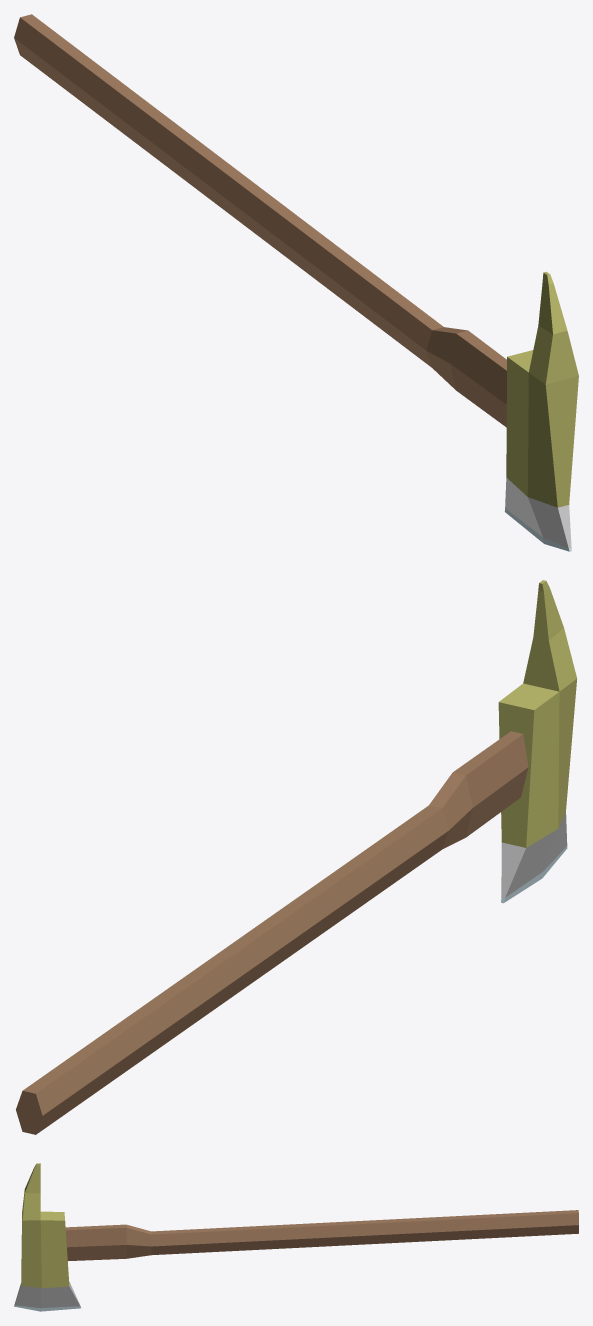
File: Firefighter_Axe.fbx
The picture shows the model from 3 angles, top to bottom: view 1: azimuth 30°, elevation 25°; view 2: azimuth 150°, elevation 25°; view 3: azimuth 270°, elevation 25°; orthographic projection. The views are drawn at different scales.
Parts seen in each view (by area): view 1: Firefighter_Axe; view 2: Firefighter_Axe; view 3: Firefighter_Axe.
Part boxes in pixels (<box>): Firefighter_Axe: <box>14,14,578,551</box>; Firefighter_Axe: <box>16,580,577,1134</box>; Firefighter_Axe: <box>14,1163,578,1311</box>.
Bounding box in the file's own units: 6.74 × 32.4 × 112.
